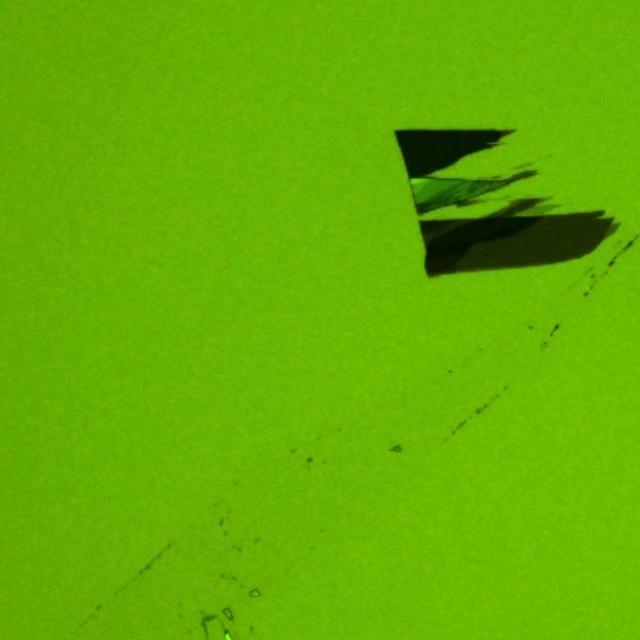monolayer-eWW4: (514, 200, 561, 218)
